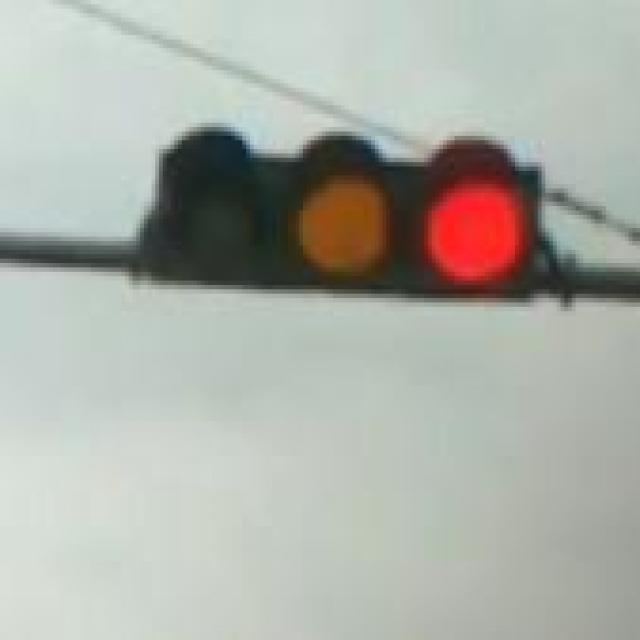yellow_light: (114, 110, 266, 557)
